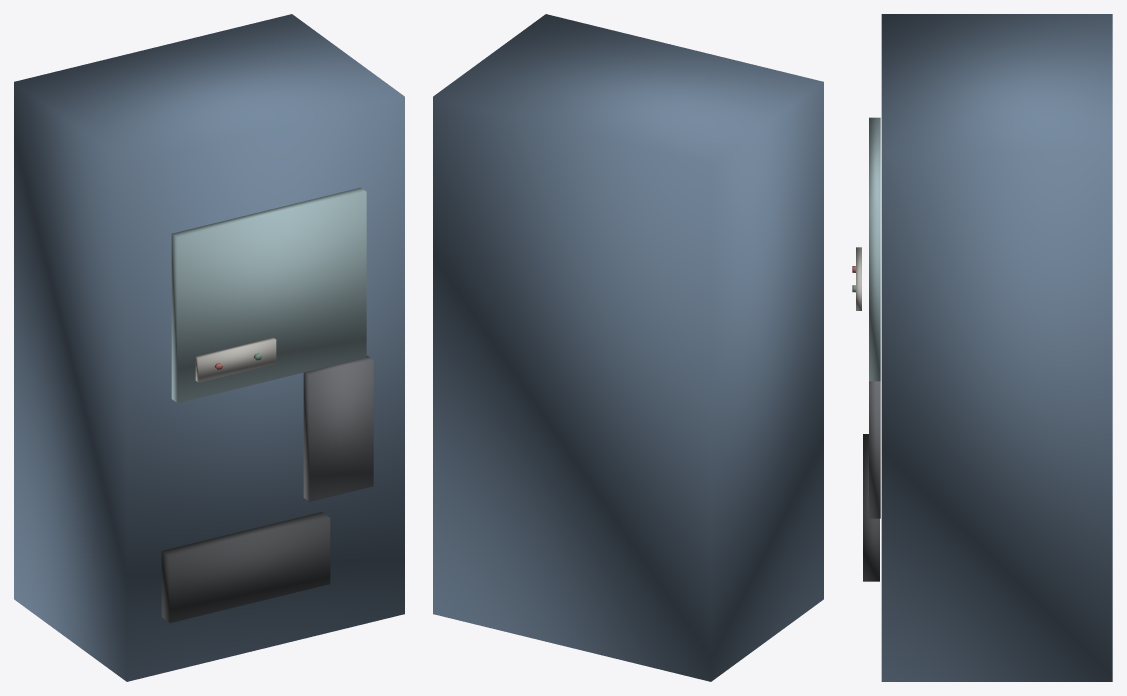
Rendered from drink_vending_machine__wide.glb.
The picture shows the model from 3 angles, left to right: view 1: azimuth 30°, elevation 25°; view 2: azimuth 150°, elevation 25°; view 3: azimuth 270°, elevation 25°; orthographic projection. The views are drawn at different scales.
Visible parts, largest first — view 1: world; view 2: world; view 3: world.
Part boxes in pixels (x1,y1,x2,y2): world: [14, 14, 404, 681]; world: [433, 14, 823, 681]; world: [852, 14, 1112, 681].
Bounding box in the file's own units: 0.9672 × 1.72 × 0.766.
